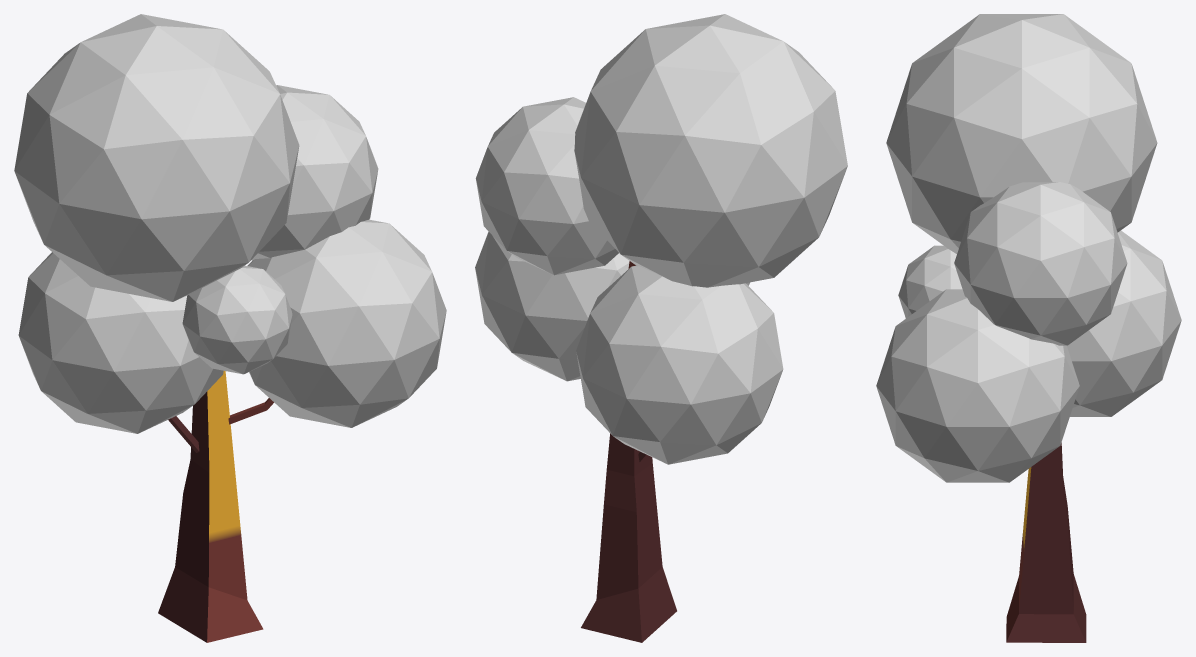
File: Tree.fbx
3 views of the same model, side by side, from view 1: azimuth 30°, elevation 25°; view 2: azimuth 150°, elevation 25°; view 3: azimuth 270°, elevation 25° (orthographic). The views are drawn at different scales.
Visible parts, largest first — view 1: Icosphere.003, Cube.003; view 2: Icosphere.003, Cube.003; view 3: Icosphere.003, Cube.003.
Boxes of the visible parts, x1,y1,x2,y2 form: Icosphere.003: (14,14,446,433); Cube.003: (158,371,273,642); Icosphere.003: (475,14,847,464); Cube.003: (581,261,676,642); Icosphere.003: (876,14,1181,482); Cube.003: (1006,442,1086,642).
Bounding box in the file's own units: 919 × 1477 × 708.
